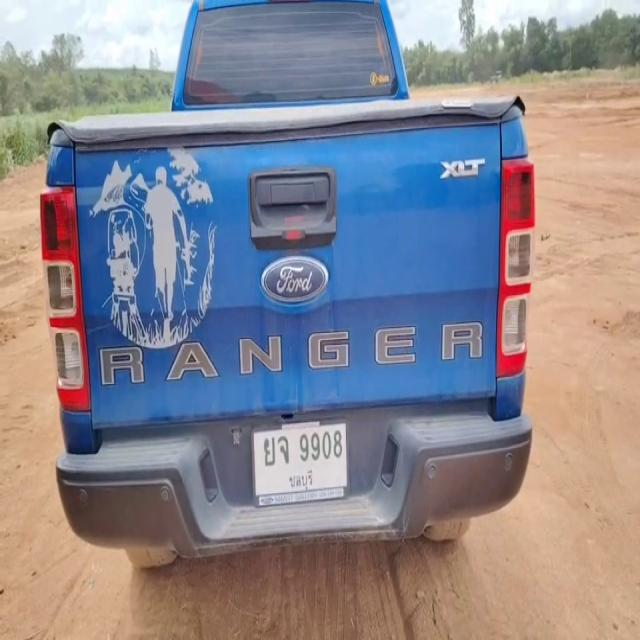Digit: (299, 431, 342, 460)
Licenseplate: (251, 427, 350, 501)
Provincename: (288, 467, 314, 493)
Thaichar: (264, 432, 290, 468)
